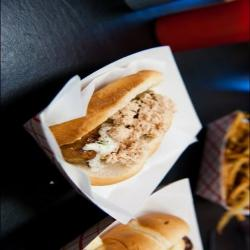burger: (50, 64, 188, 185)
